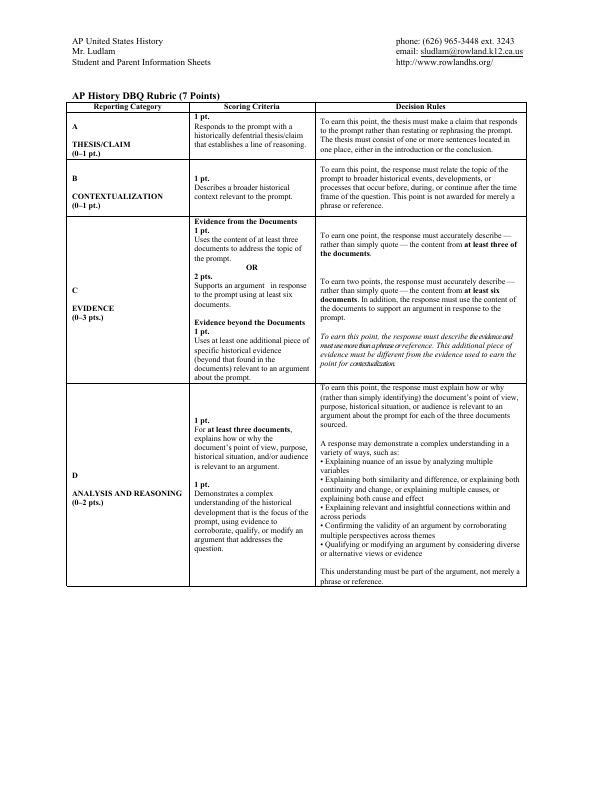table: (63, 99, 531, 593)
text: (69, 30, 213, 71), (391, 35, 530, 74), (71, 90, 223, 100)
